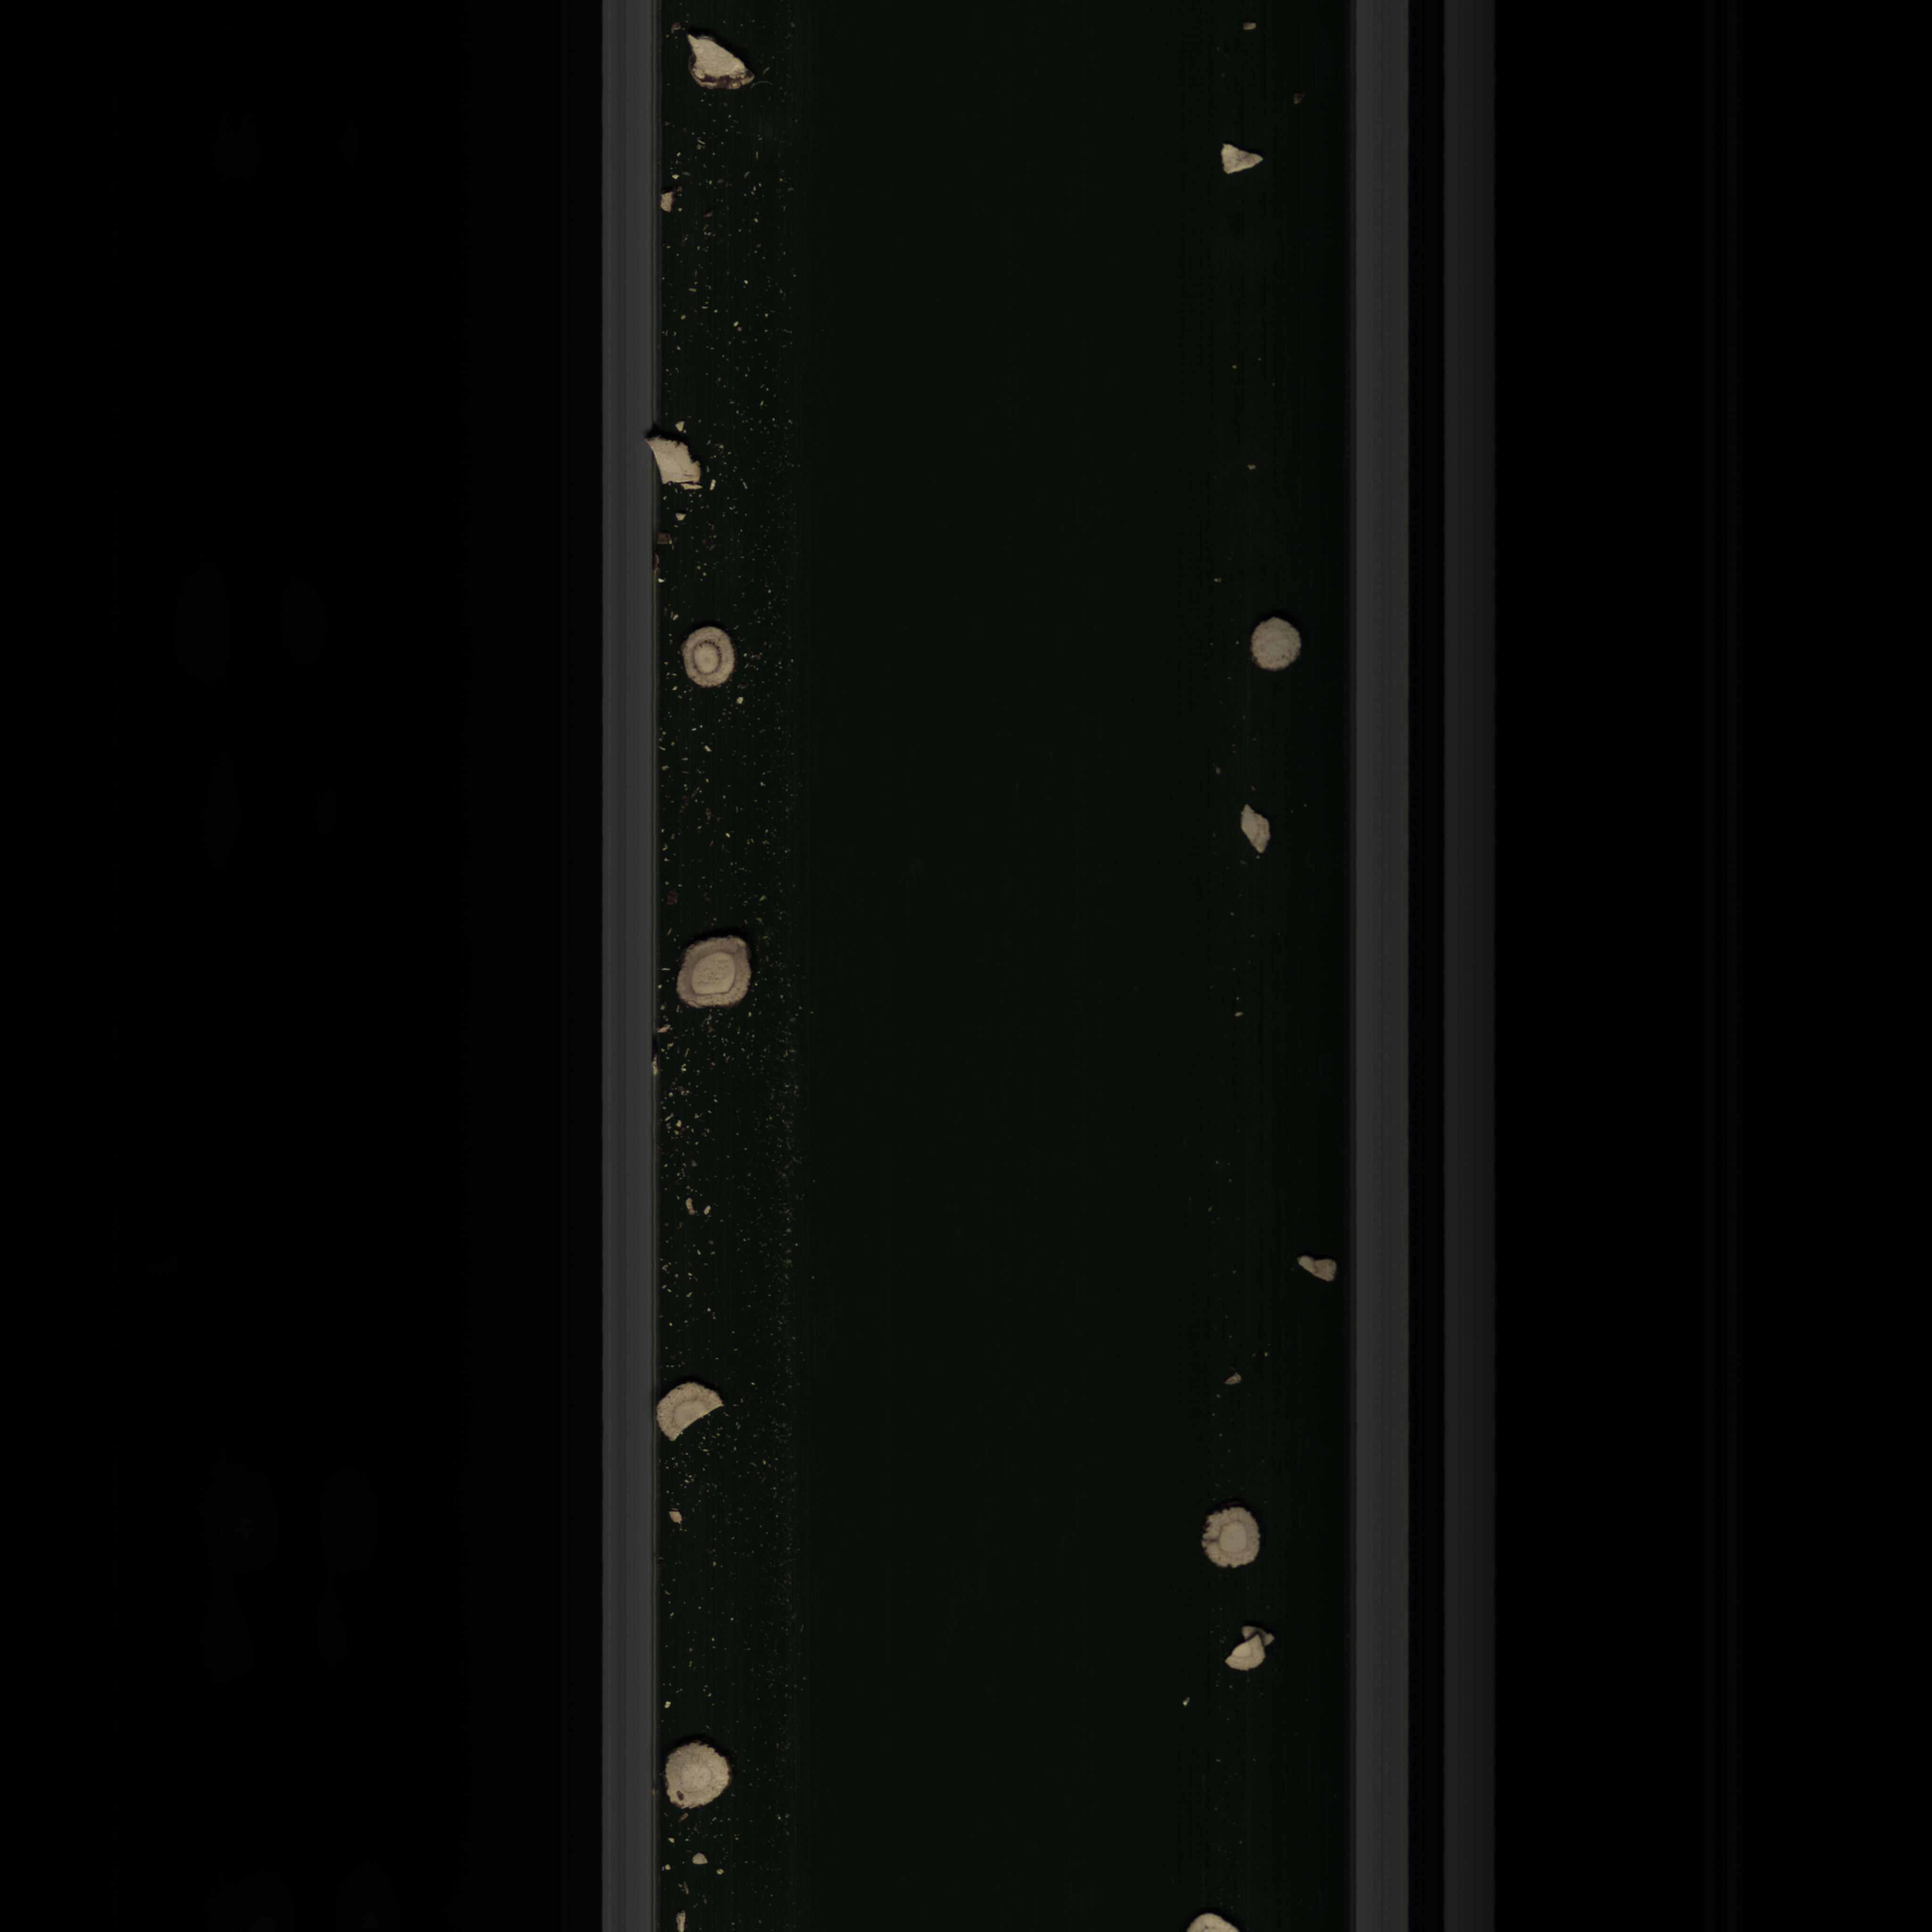debris: (686, 23, 770, 104), (644, 425, 720, 499), (1221, 140, 1270, 180)
moldy: (653, 1375, 729, 1449), (676, 623, 741, 688), (1219, 1617, 1281, 1681), (1235, 800, 1272, 858), (1297, 1247, 1343, 1292)
